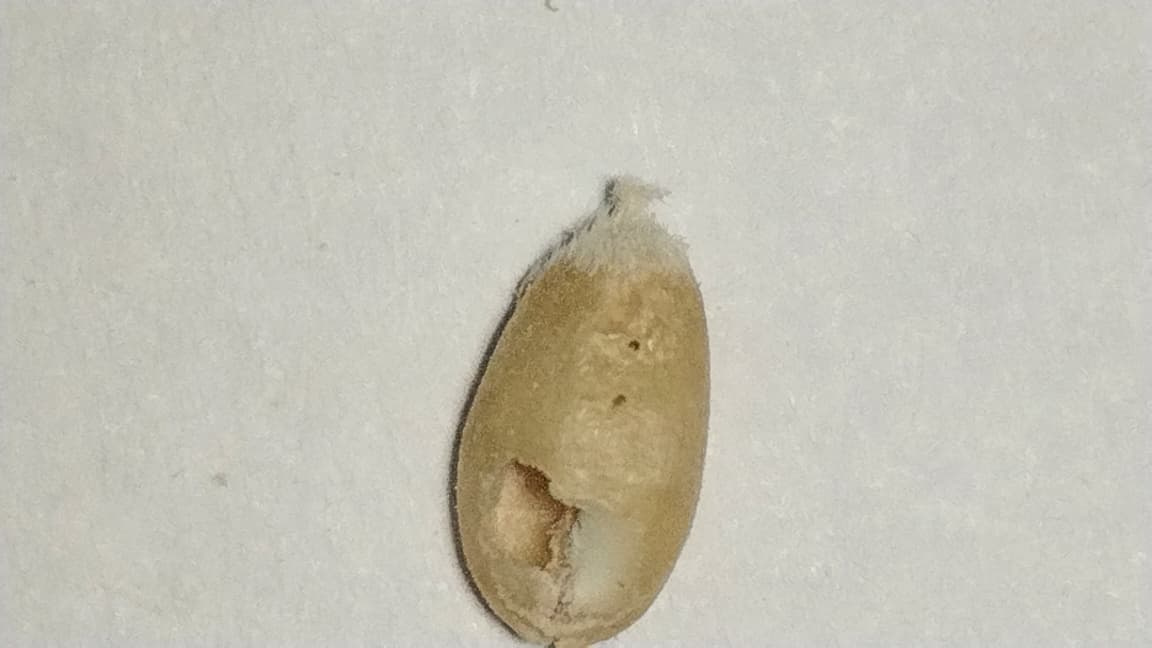damage: (449, 220, 710, 642)
insectdamage: (483, 451, 639, 646)
